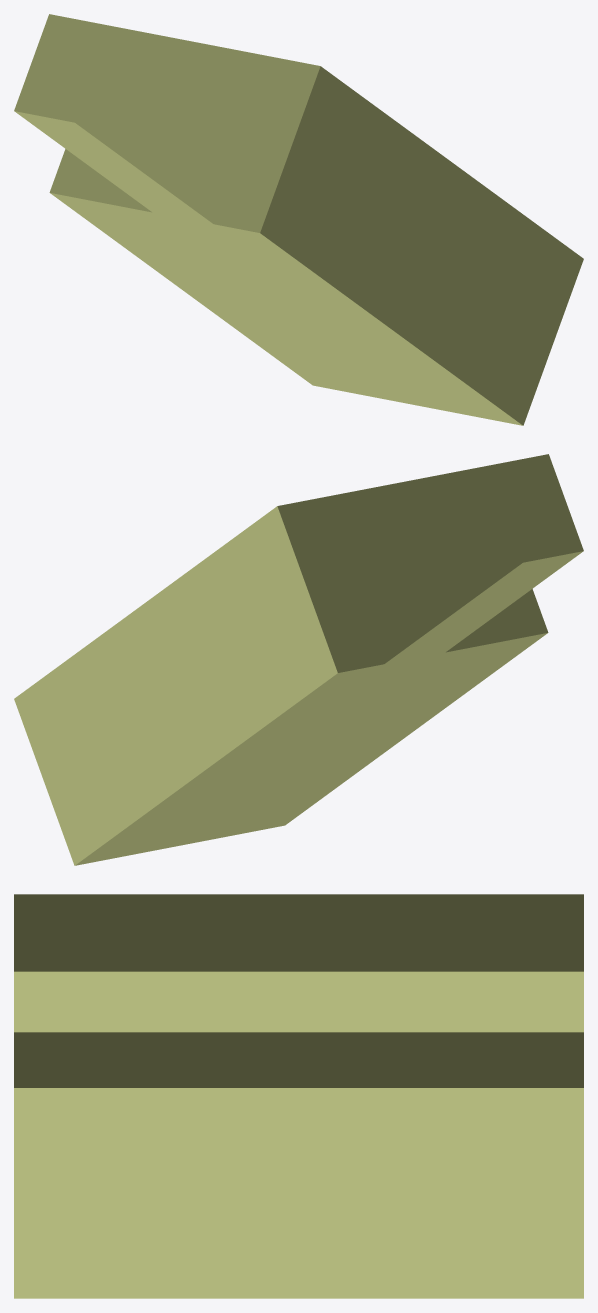
3 renders of one model, top to bottom at view 1: azimuth 30°, elevation 25°; view 2: azimuth 150°, elevation 25°; view 3: azimuth 270°, elevation 25°, orthographic. The views are drawn at different scales.
Parts seen in each view (by area): view 1: 0_0_1_3_1_1_3_2_1_2_1; view 2: 0_0_1_3_1_1_3_2_1_2_1; view 3: 0_0_1_3_1_1_3_2_1_2_1.
Boxes of the visible parts, x1,y1,x2,y2 form: 0_0_1_3_1_1_3_2_1_2_1: (14, 14, 583, 425); 0_0_1_3_1_1_3_2_1_2_1: (14, 454, 583, 865); 0_0_1_3_1_1_3_2_1_2_1: (14, 894, 583, 1298).
Size of the model in its own units: 6.05 by 5.1 by 9.
